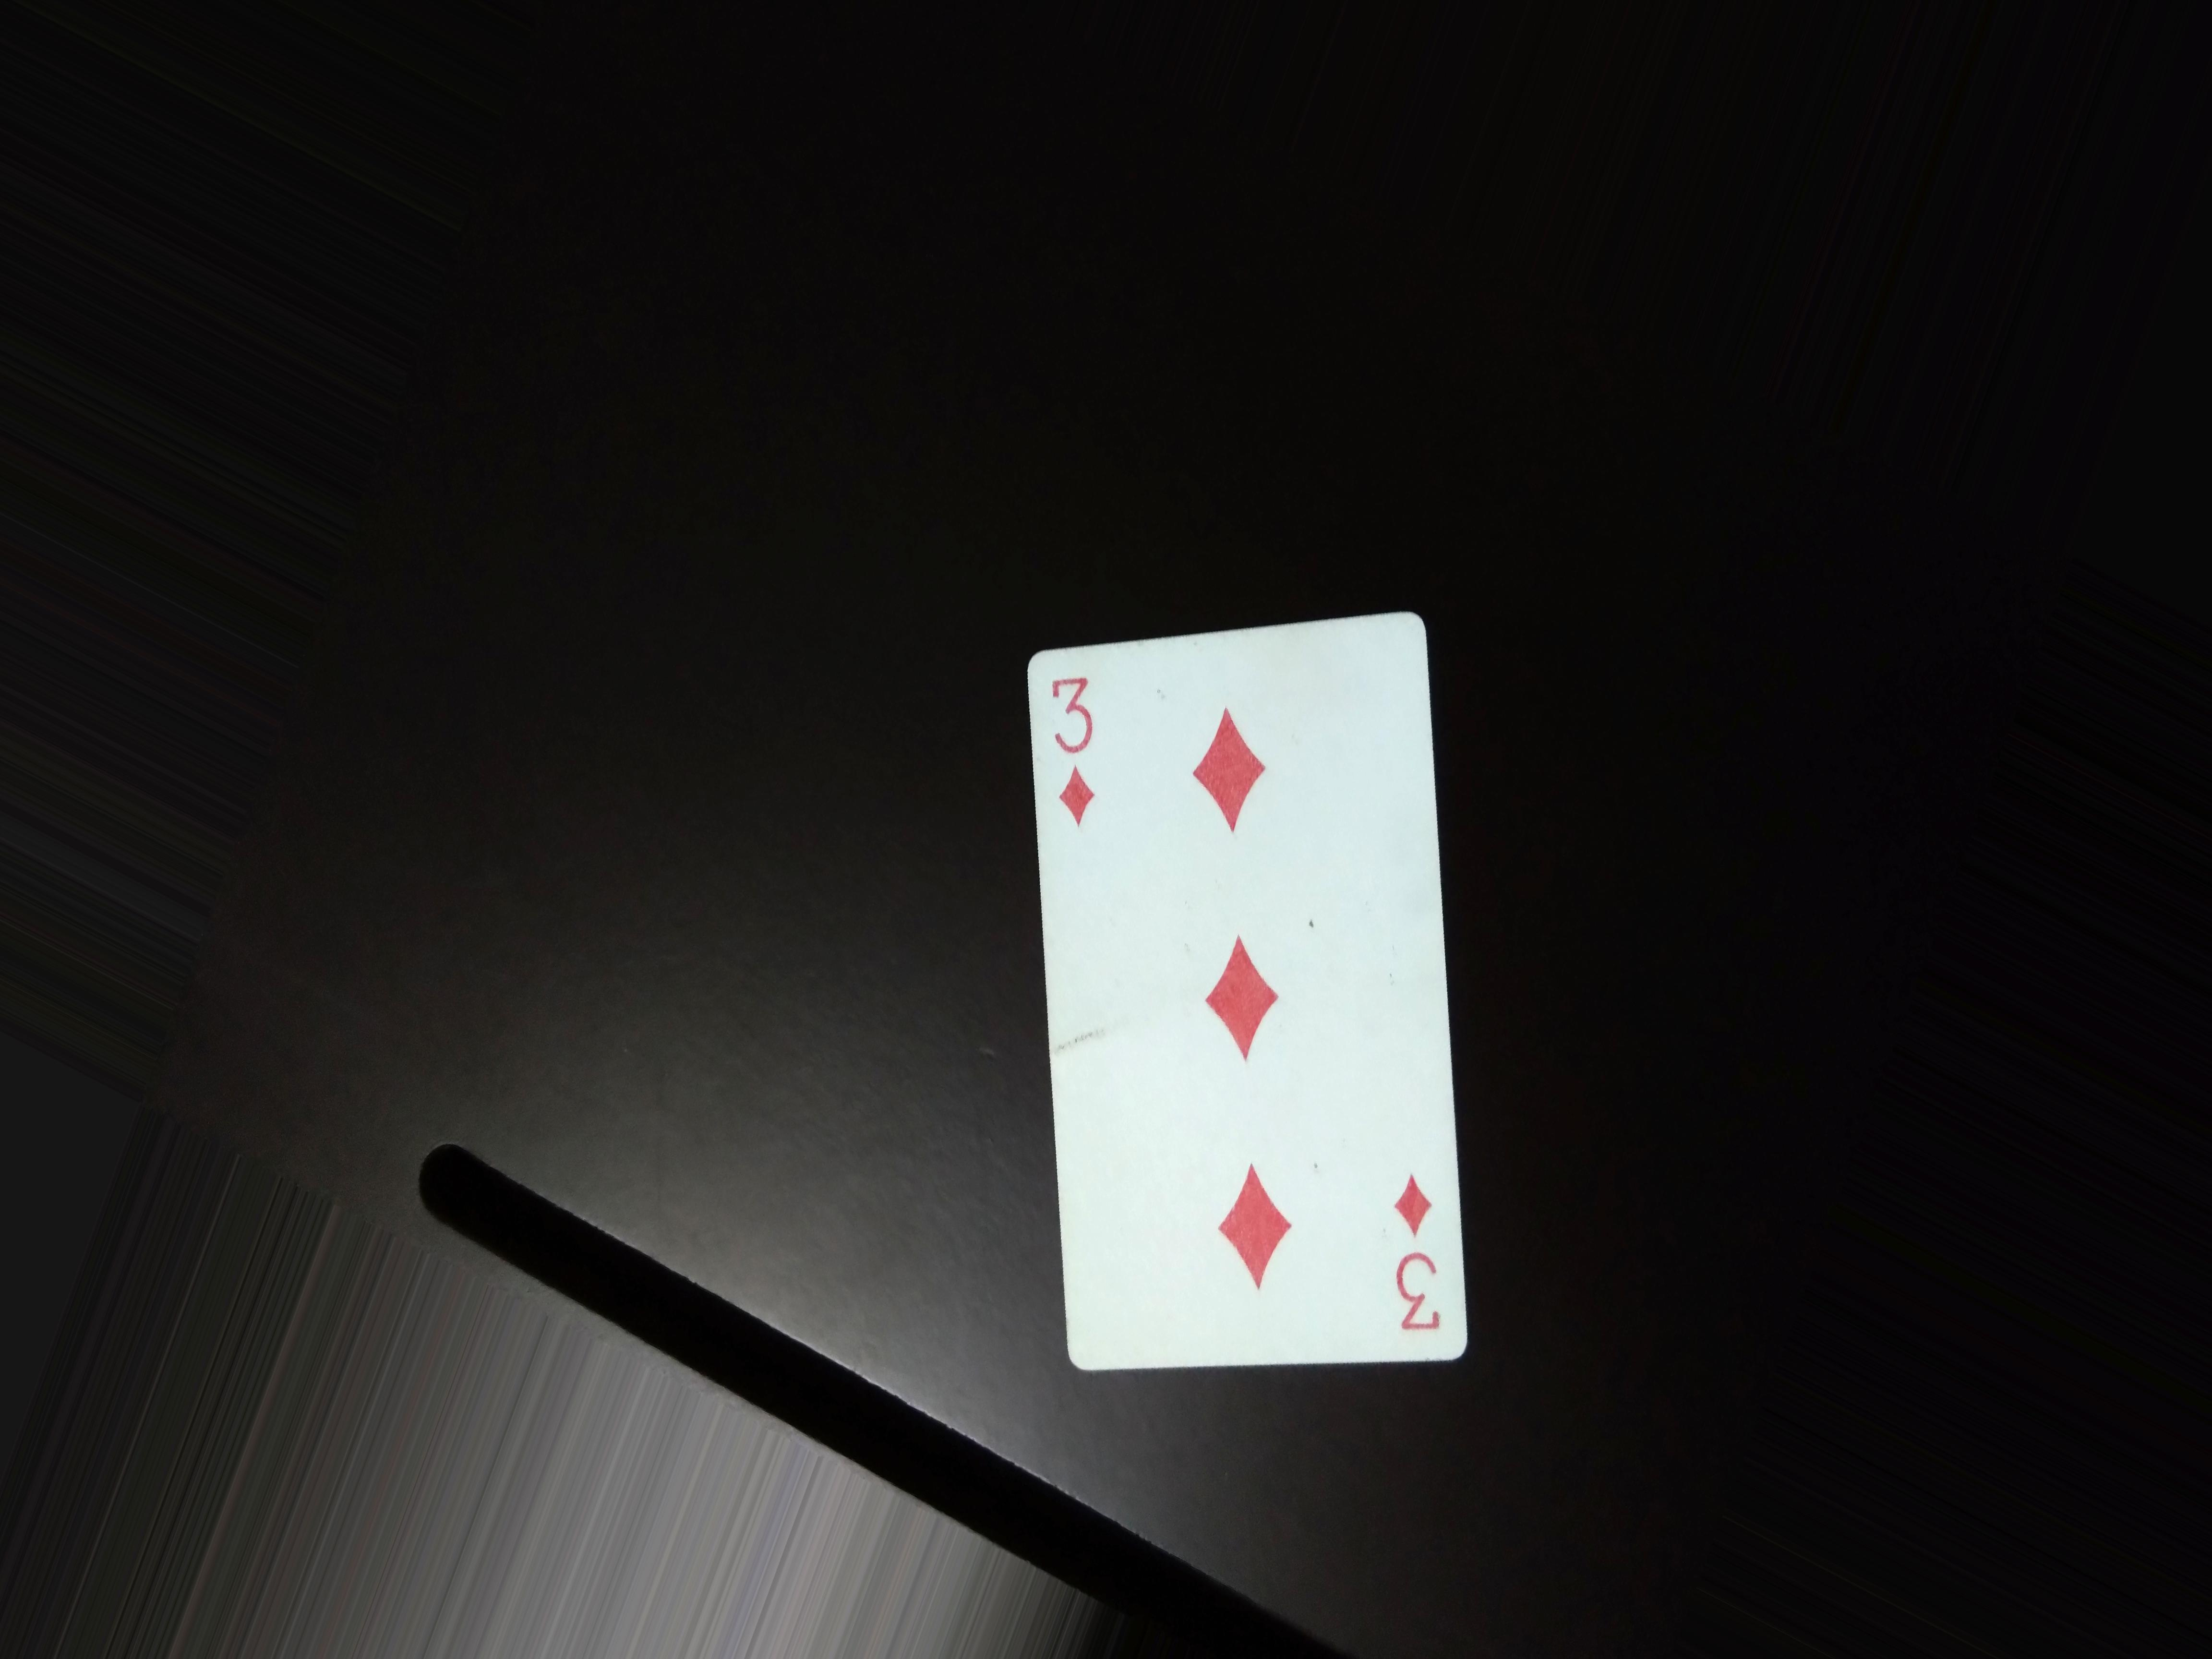3D: (1035, 666, 1127, 842)
